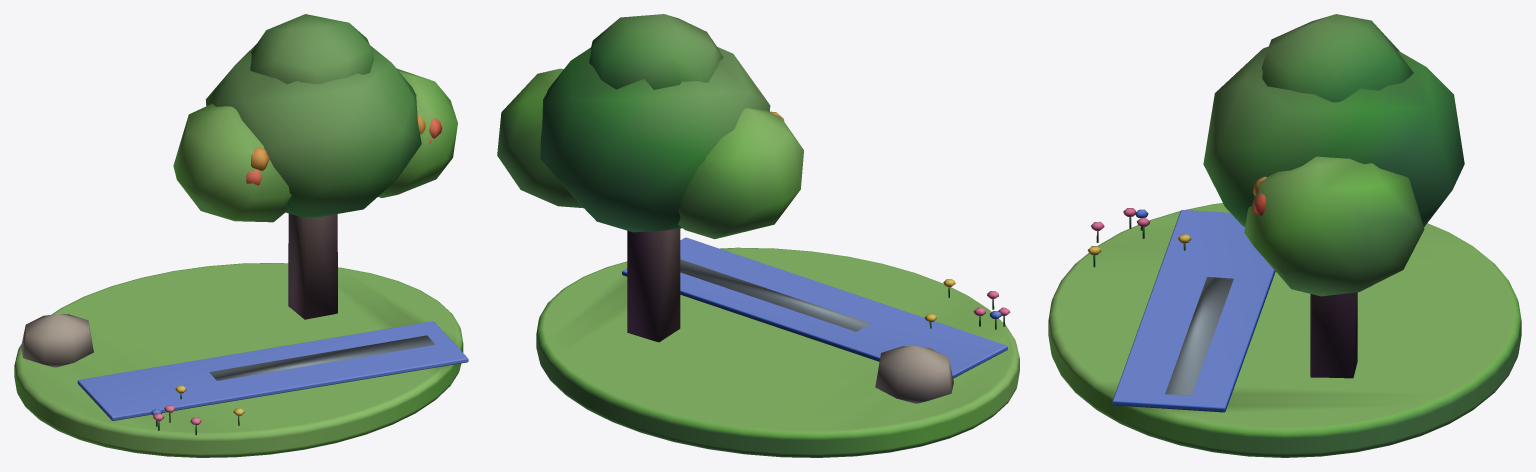
Rendered from rivertree.glb.
3 views of the same model, side by side, from view 1: azimuth 30°, elevation 25°; view 2: azimuth 150°, elevation 25°; view 3: azimuth 270°, elevation 25° (orthographic). The views are drawn at different scales.
Visible parts, largest first — view 1: rivertree; view 2: rivertree; view 3: rivertree.
Boxes of the visible parts, left/top/right/bottom form: rivertree: left=14, top=14, right=468, bottom=457; rivertree: left=497, top=14, right=1019, bottom=457; rivertree: left=1048, top=14, right=1521, bottom=457.
Bounding box in the file's own units: 6.8 × 4.72 × 5.4.
